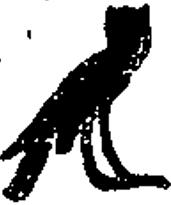Owl: (1, 1, 165, 203)
